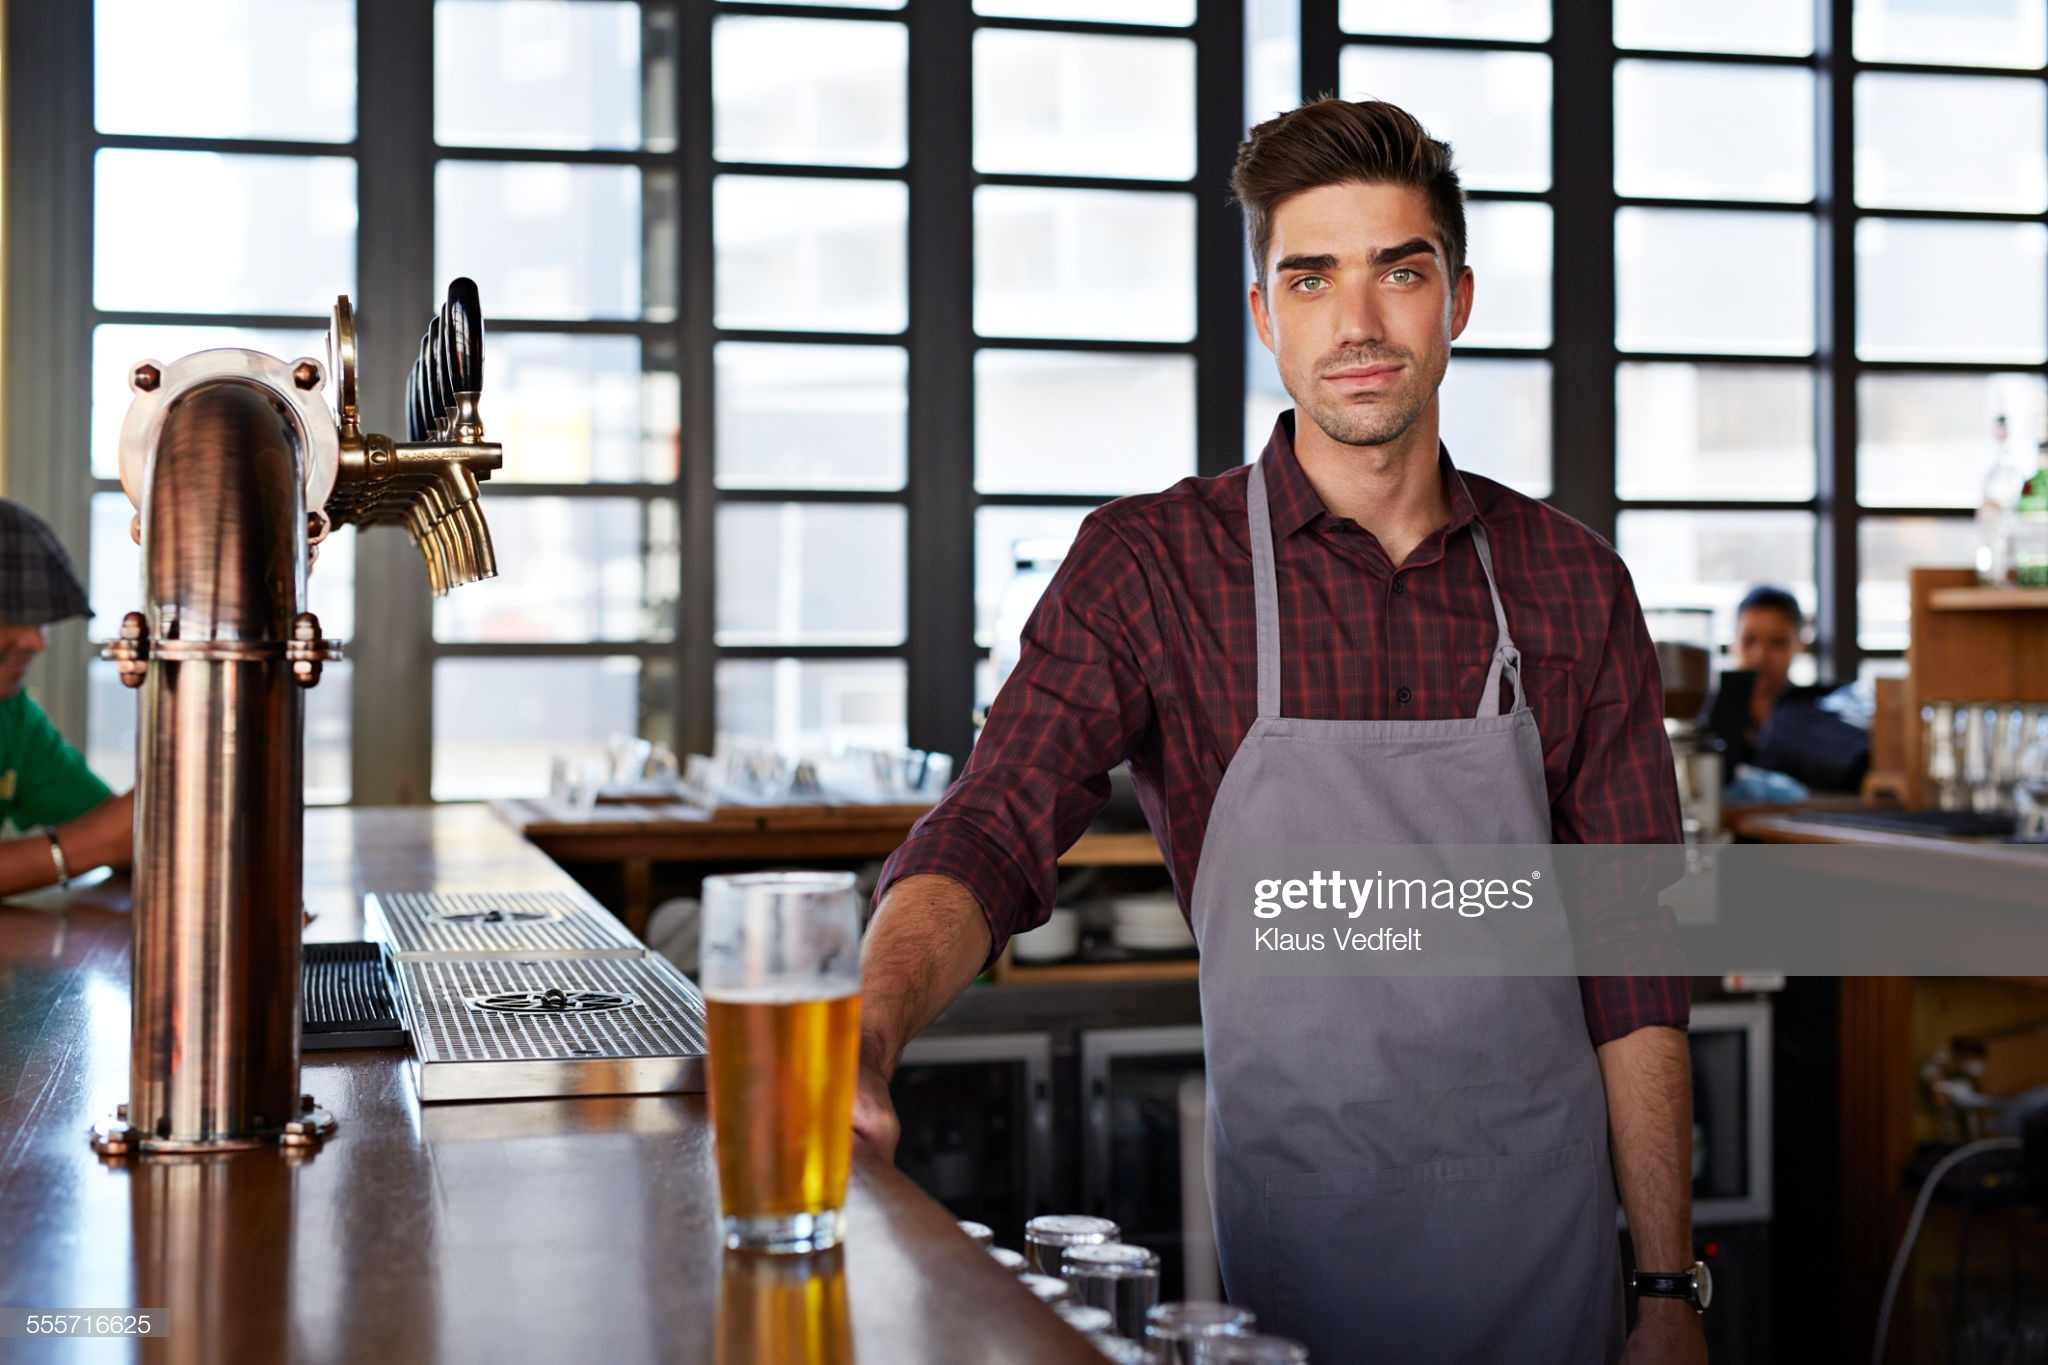glassBeer: (682, 864, 885, 1258)
